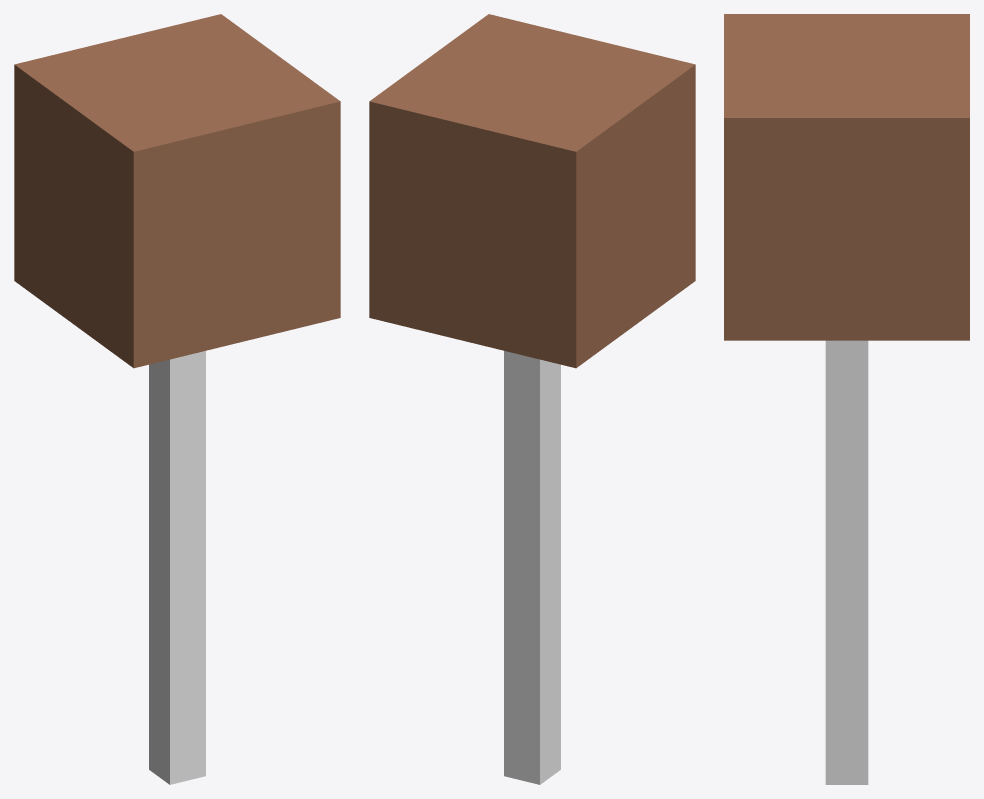
The model's file is CandylandLollypop_07.fbx.
The picture shows the model from 3 angles, left to right: view 1: azimuth 30°, elevation 25°; view 2: azimuth 150°, elevation 25°; view 3: azimuth 270°, elevation 25°; orthographic projection. The views are drawn at different scales.
Parts seen in each view (by area): view 1: CandylandLollypop_07; view 2: CandylandLollypop_07; view 3: CandylandLollypop_07.
Part boxes in pixels (x1,y1,x2,y2): CandylandLollypop_07: (14, 14, 340, 784); CandylandLollypop_07: (369, 14, 695, 784); CandylandLollypop_07: (724, 14, 969, 784).
Bounding box in the file's own units: 0.2013 × 0.6416 × 0.2013.
